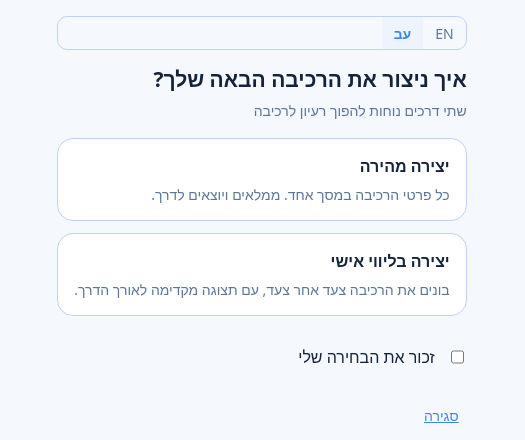
Test case: entry screen wording › picking a language on the entry screen is remembered for the studio
What coordinates should you click on to do the following:
click the button "EN"
I would click on:
 (444, 33)
Its box is [423,17,466,49].
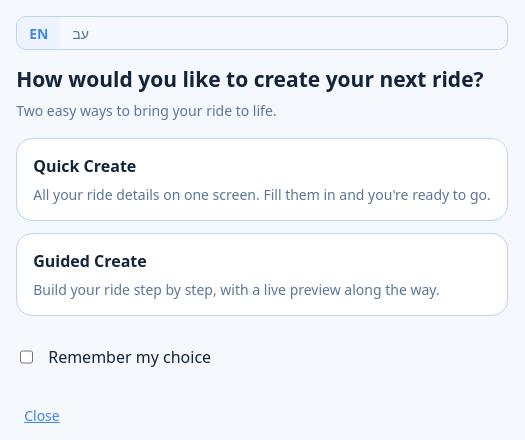
Result: the heading "How would you like to create your next ride?" is shown at [16,66,508,92]
